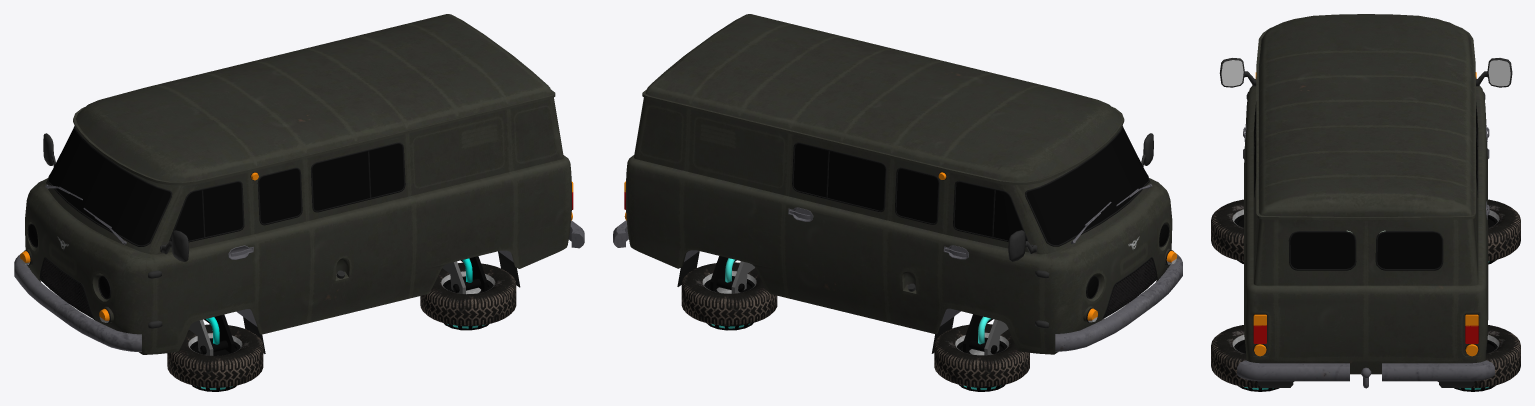
3 views of the same model, side by side, from view 1: azimuth 30°, elevation 25°; view 2: azimuth 150°, elevation 25°; view 3: azimuth 270°, elevation 25° (orthographic).
Parts seen in each view (by area): view 1: uaz3909_body_low, uaz3909_glass, uaz3909_wheel.002, uaz3909_wheel.001; view 2: uaz3909_body_low, uaz3909_glass, uaz3909_wheel.003, uaz3909_wheel.004; view 3: uaz3909_body_low, uaz3909_glass, uaz3909_wheel.002, uaz3909_wheel.004, uaz3909_wheel.001, uaz3909_wheel.003, uaz3909_lights_low, uaz3909_reflector_low.
Part boxes in pixels (x1=…): uaz3909_body_low: x1=14, y1=14, x2=584, y2=354; uaz3909_glass: x1=28, y1=128, x2=403, y2=298; uaz3909_wheel.002: x1=420, y1=262, x2=516, y2=325; uaz3909_wheel.001: x1=167, y1=324, x2=263, y2=387; uaz3909_body_low: x1=613, y1=14, x2=1182, y2=354; uaz3909_glass: x1=793, y1=128, x2=1168, y2=297; uaz3909_wheel.003: x1=934, y1=324, x2=1029, y2=387; uaz3909_wheel.004: x1=681, y1=262, x2=777, y2=325; uaz3909_body_low: x1=1219, y1=14, x2=1512, y2=388; uaz3909_glass: x1=1254, y1=107, x2=1477, y2=268; uaz3909_wheel.002: x1=1211, y1=325, x2=1294, y2=388; uaz3909_wheel.004: x1=1437, y1=325, x2=1520, y2=388; uaz3909_wheel.001: x1=1211, y1=199, x2=1243, y2=261; uaz3909_wheel.003: x1=1488, y1=199, x2=1520, y2=261; uaz3909_lights_low: x1=1253, y1=72, x2=1478, y2=356; uaz3909_reflector_low: x1=1221, y1=60, x2=1510, y2=86.
Bounding box in the file's own units: 4.33 × 1.92 × 2.39.
Materials: 10 (3 with a texture image).
